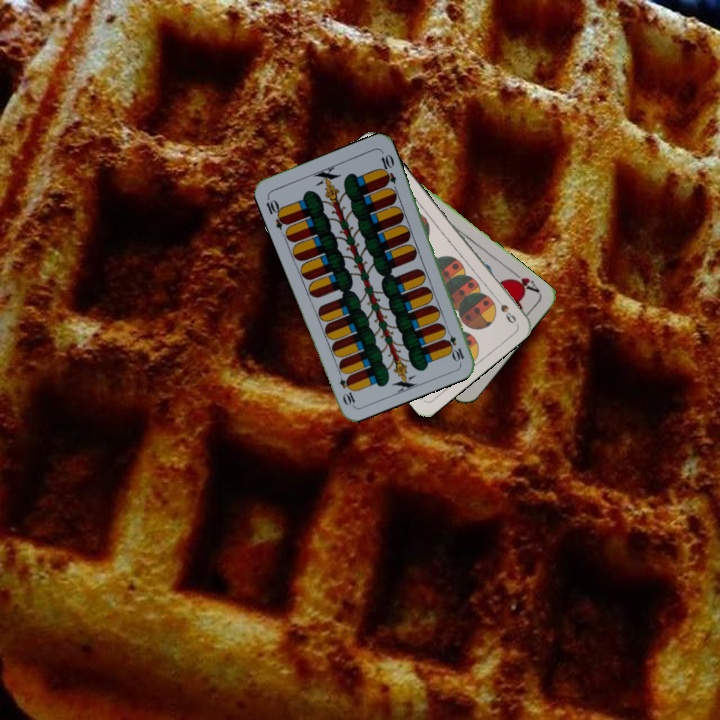E10: (262, 193, 290, 232), (441, 324, 467, 364)
HA: (505, 266, 542, 296)
S9: (489, 291, 519, 326)
